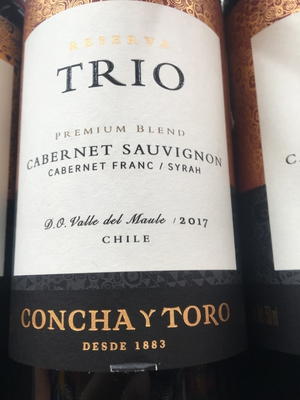trio cabernet sauvignon: (12, 6, 243, 380)
